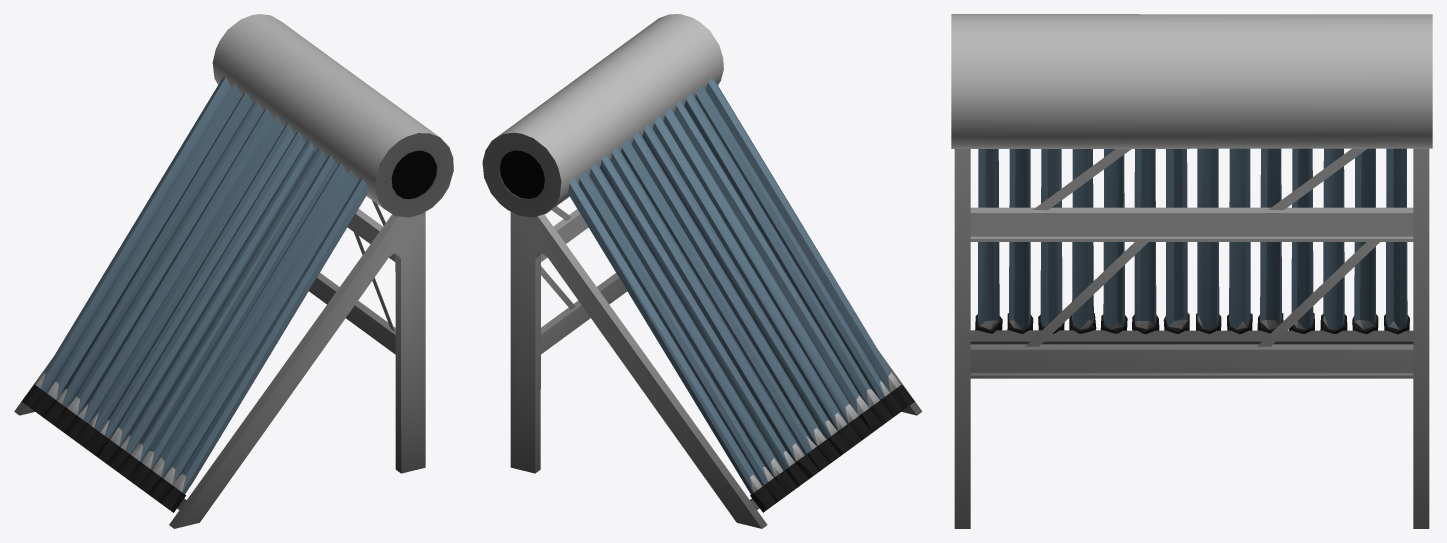
The model's file is Water heater.fbx.
3 views of the same model, side by side, from view 1: azimuth 30°, elevation 25°; view 2: azimuth 150°, elevation 25°; view 3: azimuth 270°, elevation 25° (orthographic). The views are drawn at different scales.
Parts seen in each view (by area): view 1: Cube.114; view 2: Cube.114; view 3: Cube.114.
Part boxes in pixels (box(x1,y1,x2,y2)): Cube.114: box(14, 14, 453, 528); Cube.114: box(482, 14, 922, 528); Cube.114: box(951, 14, 1432, 528).
Size of the model in its own units: 3.77 by 3.77 by 4.32.
